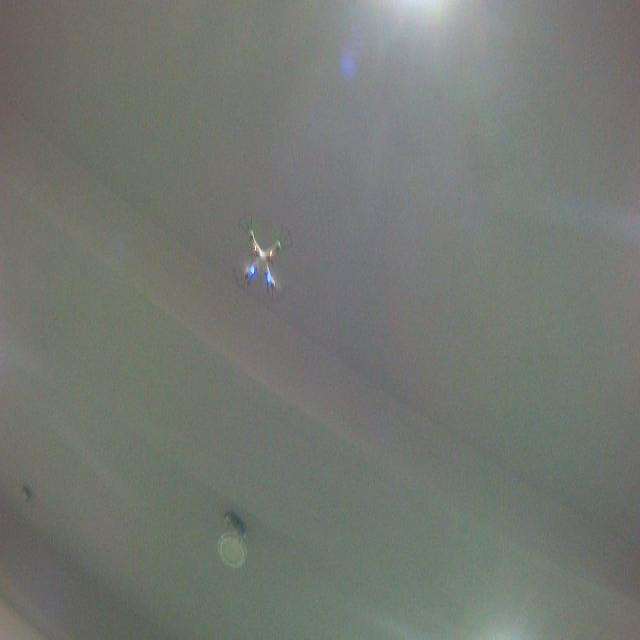drone: (232, 205, 295, 308)
